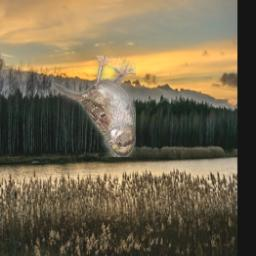Sparrow: (52, 57, 136, 158)
